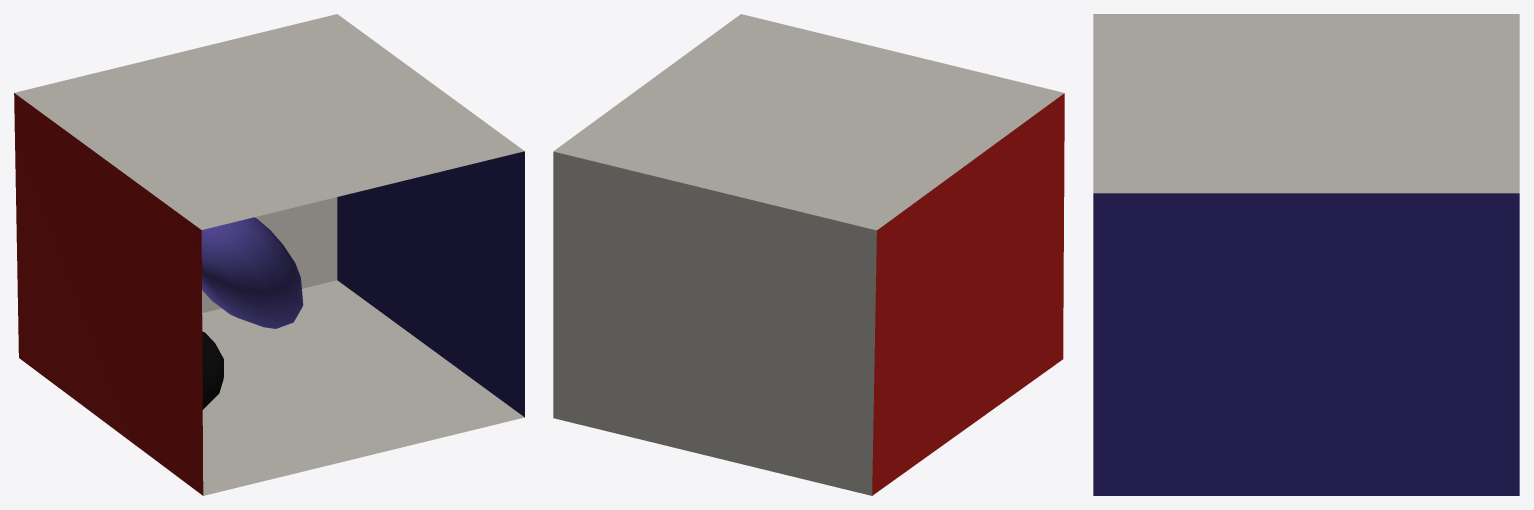
Rendered from CornellBox-Ellipsoid-240.obj.
3 views of the same model, side by side, from view 1: azimuth 30°, elevation 25°; view 2: azimuth 150°, elevation 25°; view 3: azimuth 270°, elevation 25° (orthographic). The views are drawn at different scales.
Parts seen in each view (by area): view 1: ceiling, leftWall, floor, rightWall, leftSphere, backWall, rightSphere; view 2: backWall, ceiling, leftWall; view 3: rightWall, ceiling.
Boxes of the visible parts, x1,y1,x2,y2 form: ceiling: [14, 14, 524, 229]; leftWall: [14, 93, 203, 495]; floor: [202, 280, 524, 495]; rightWall: [337, 151, 524, 417]; leftSphere: [201, 217, 303, 328]; backWall: [202, 197, 337, 312]; rightSphere: [202, 331, 223, 409]; backWall: [553, 151, 876, 495]; ceiling: [553, 14, 1064, 230]; leftWall: [872, 93, 1064, 495]; rightWall: [1093, 193, 1519, 495]; ceiling: [1093, 14, 1519, 193].
Bounding box in the file's own units: 2.02 × 1.59 × 2.03.
